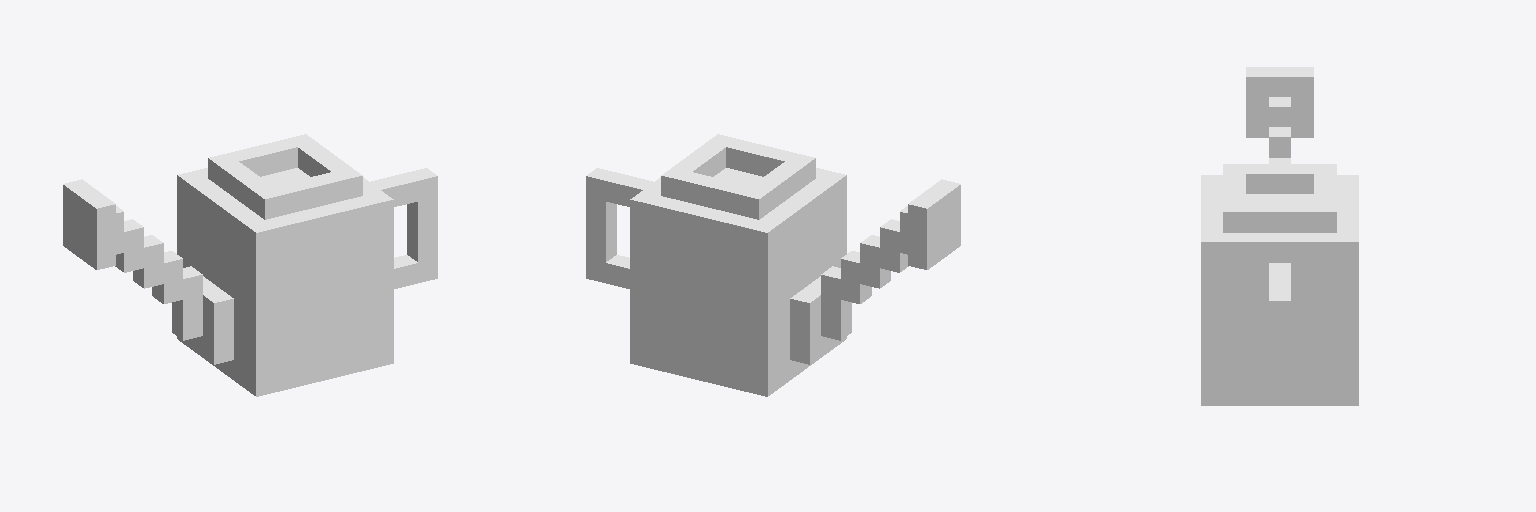
The model's file is watering-can.obj.
3 renders of one model, left to right at view 1: azimuth 30°, elevation 25°; view 2: azimuth 150°, elevation 25°; view 3: azimuth 270°, elevation 25°, orthographic.
Visible parts, largest first — view 1: object 1; view 2: object 1; view 3: object 1.
Boxes of the visible parts, x1,y1,x2,y2 form: object 1: [63, 134, 437, 396]; object 1: [586, 134, 960, 396]; object 1: [1201, 67, 1358, 405].
Bounding box in the file's own units: 1.8 × 1 × 0.7.